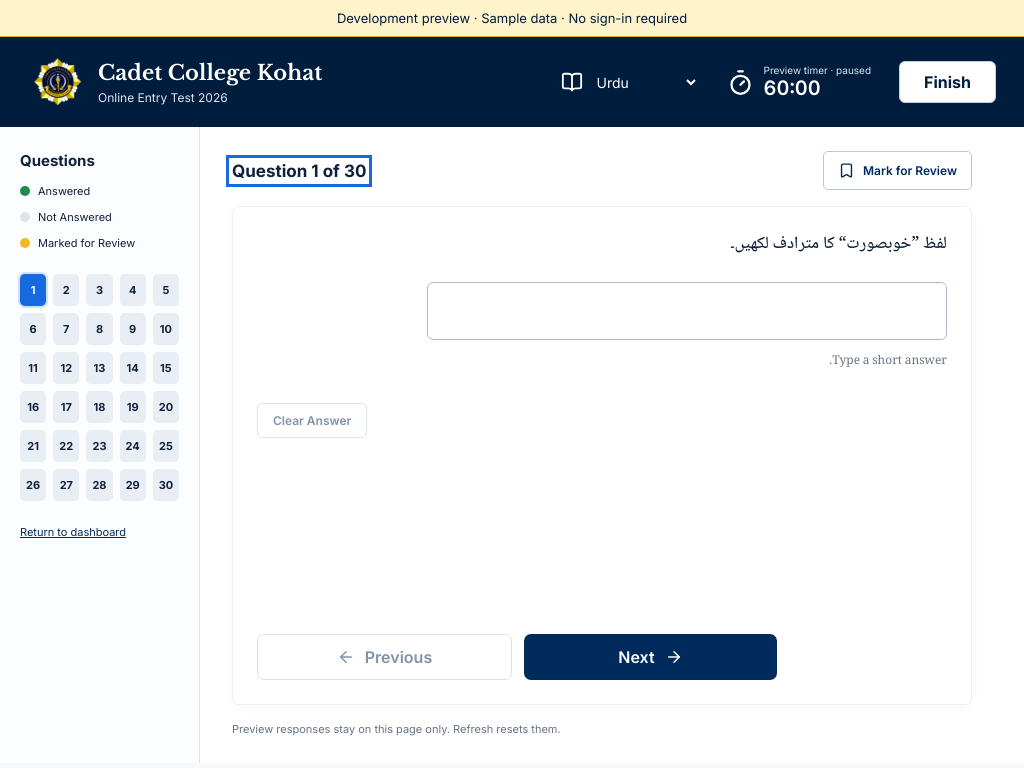
it: exam interface preview › supports Urdu Unicode input with local right-to-left direction
The image size is (1024, 768).
Type "حسین" into the field named "Your answer" at (687, 311), box [427,282,947,340]
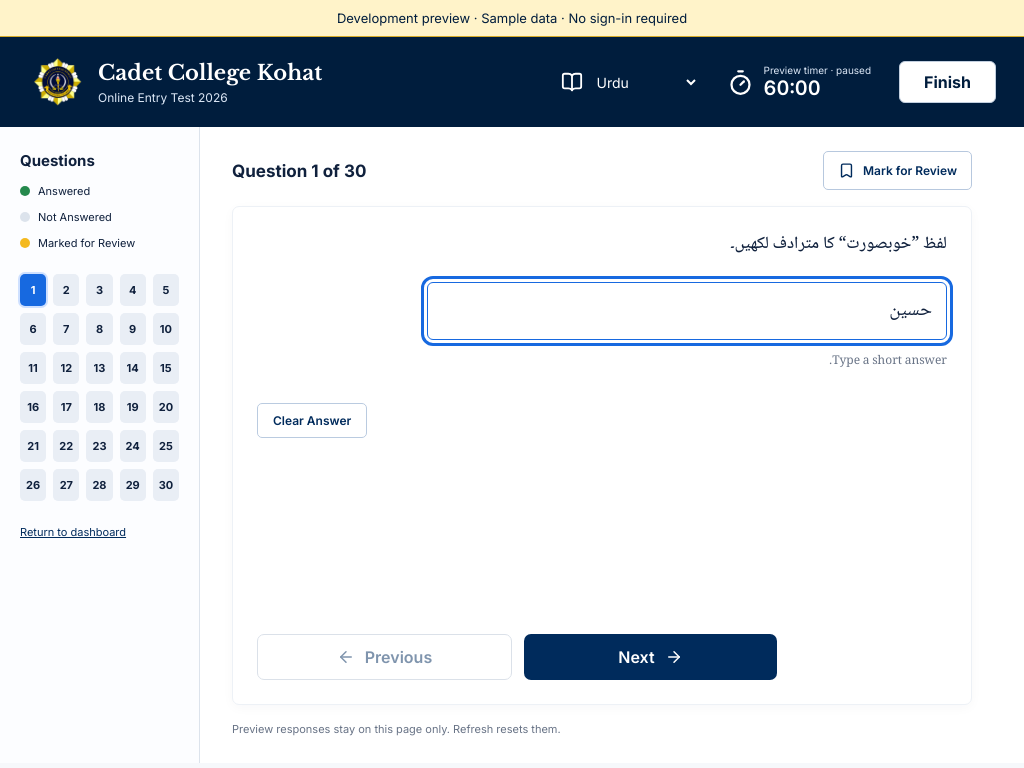
Click the button "Next" at (650, 657), box [524,634,777,680]
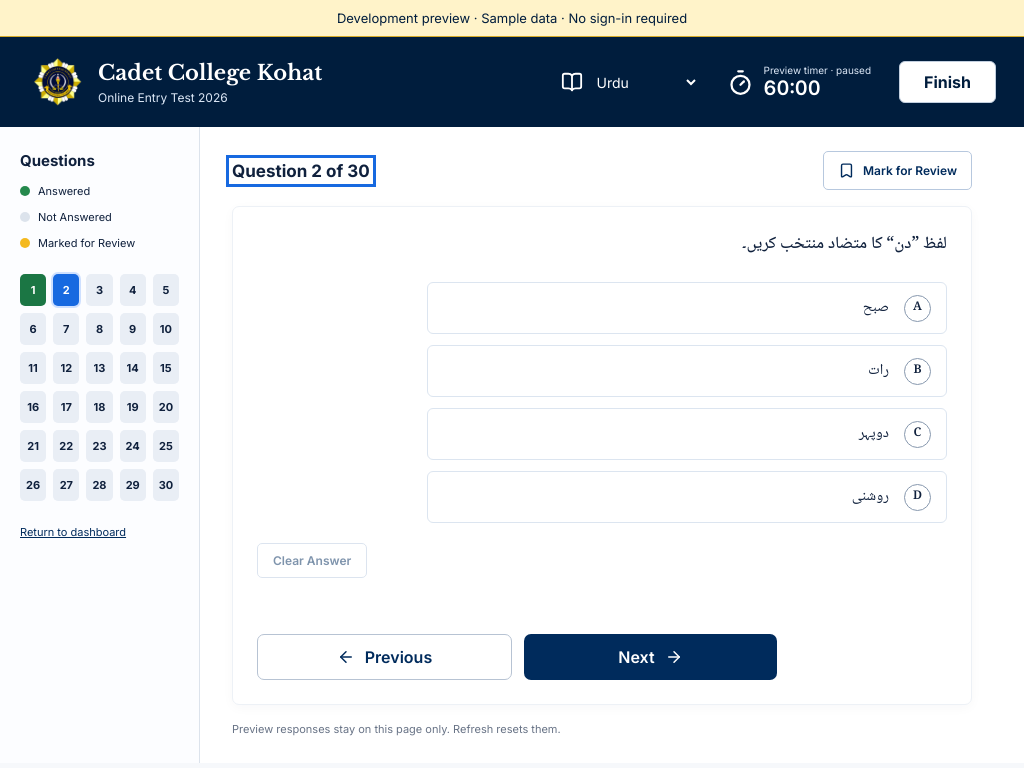
Click the button "Previous" at (384, 657), box [257,634,512,680]
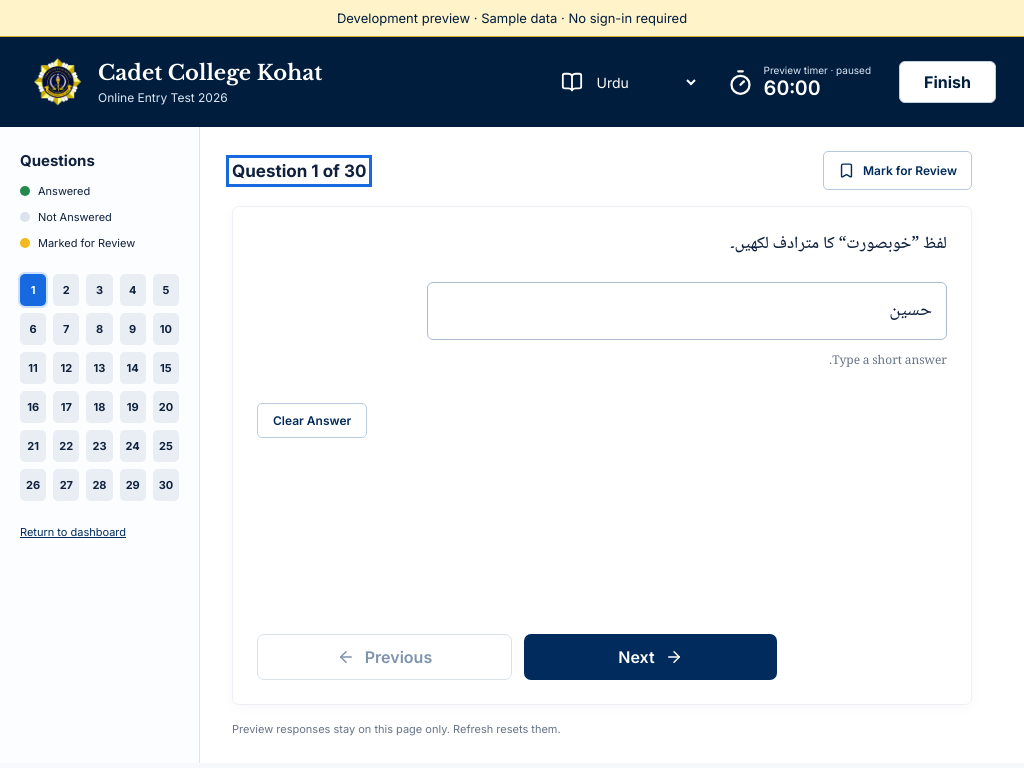
Expected: the field named "Your answer" holds "حسین", [427,282,947,340]
